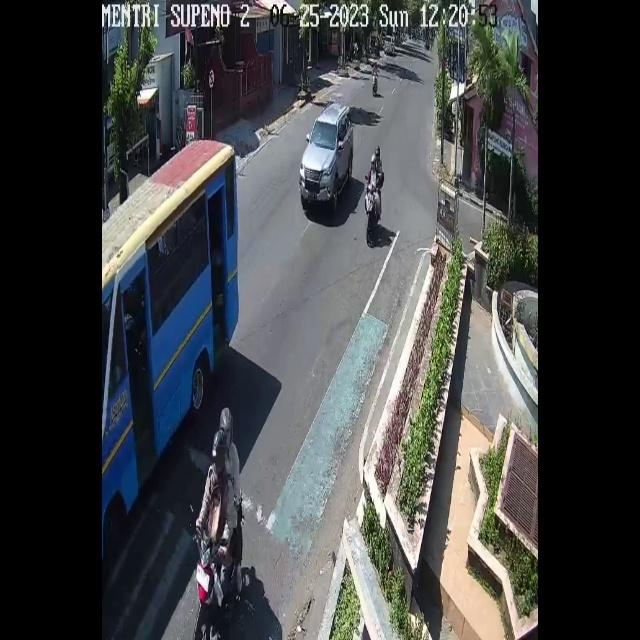bus: (193, 487, 241, 640), (365, 184, 378, 238)
car: (102, 139, 238, 559)
motorcycle: (298, 103, 354, 215)
